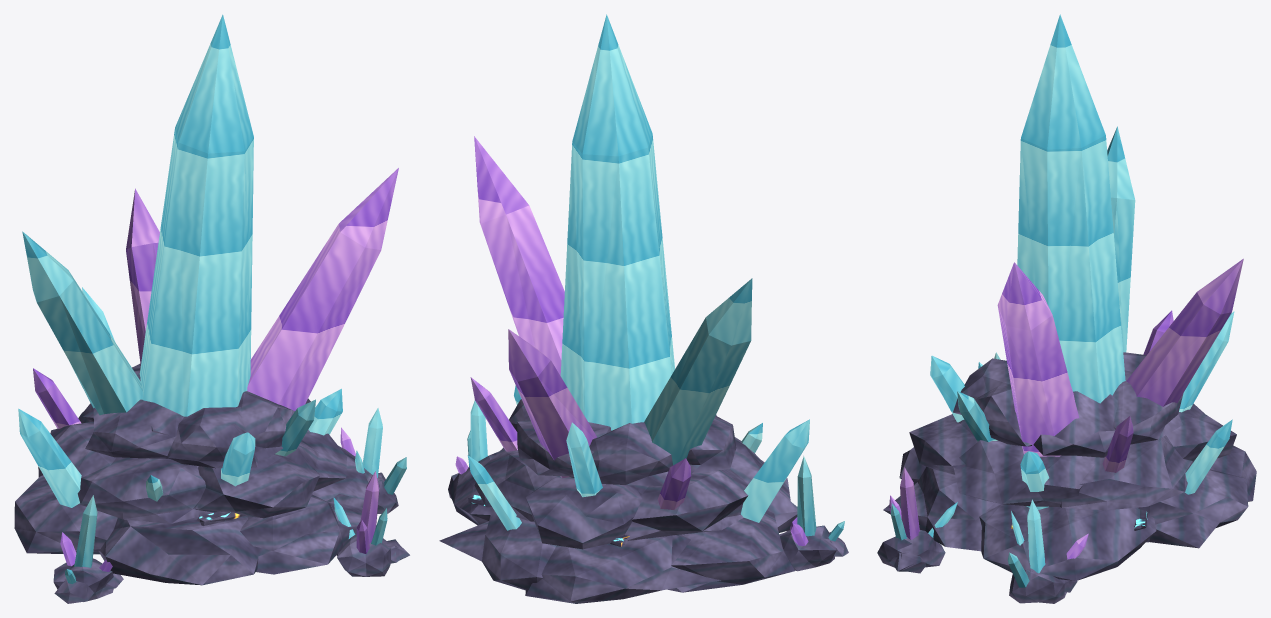
The model's file is landmark_spire.glb.
3 views of the same model, side by side, from view 1: azimuth 30°, elevation 25°; view 2: azimuth 150°, elevation 25°; view 3: azimuth 270°, elevation 25° (orthographic). The views are drawn at different scales.
Visible parts, largest first — view 1: landmark_spire; view 2: landmark_spire; view 3: landmark_spire.
Boxes of the visible parts, x1=… form: landmark_spire: x1=14, y1=14, x2=409, y2=603; landmark_spire: x1=439, y1=14, x2=848, y2=603; landmark_spire: x1=877, y1=14, x2=1256, y2=603.
Size of the model in its own units: 5.97 by 8.11 by 5.43.
6 materials, 6 textured.
